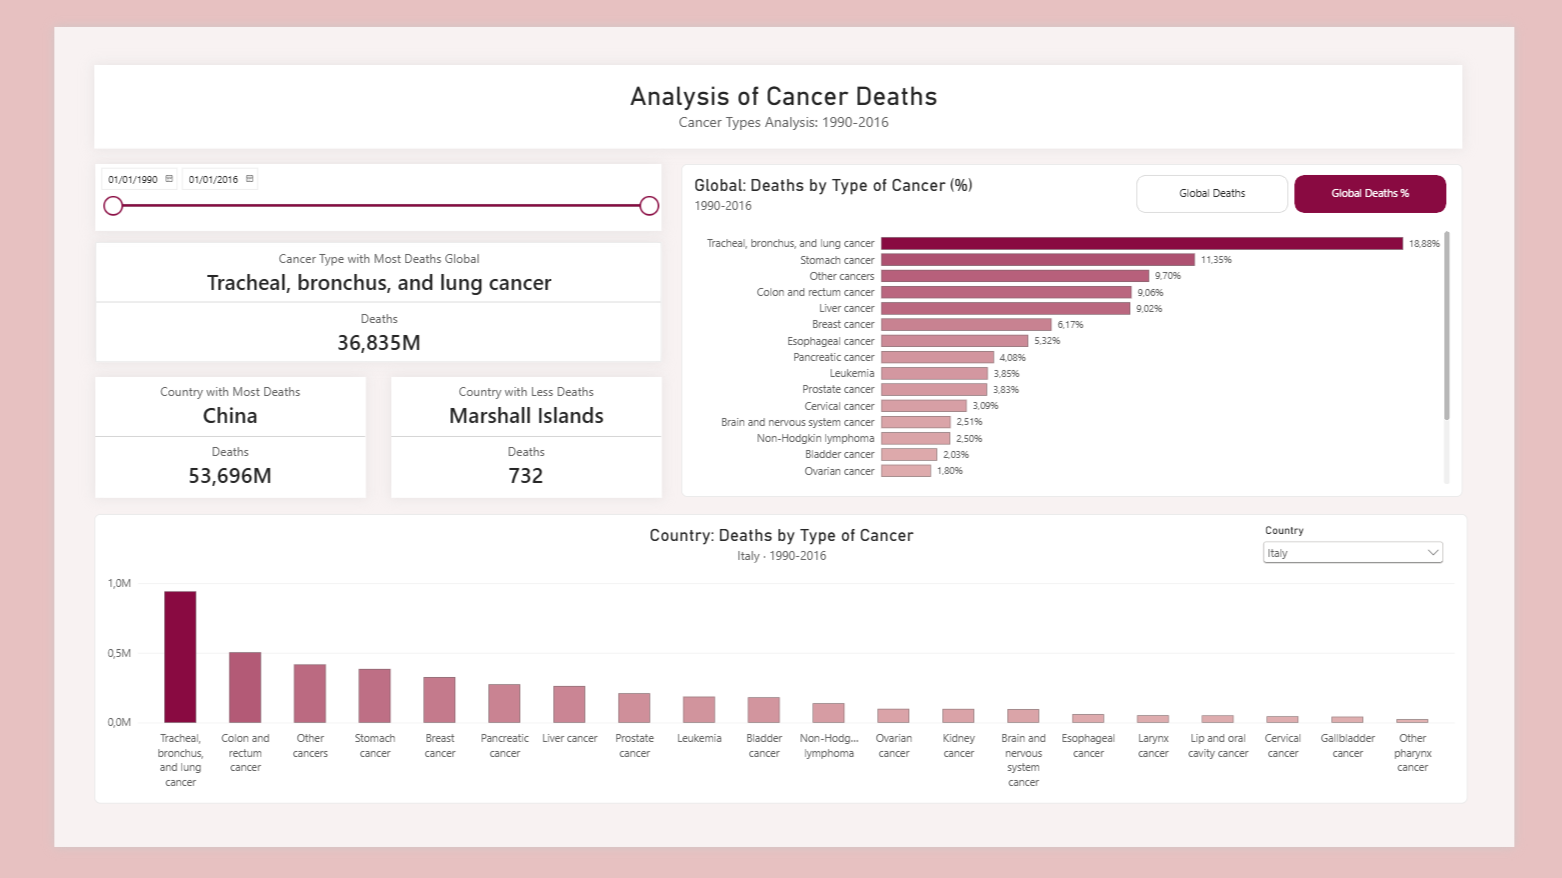

The dashboard page shown, as its layout file describes it:
{"tool":"powerbi","page":{"name":"Cancer Type Analysis","canvas":[1920,1080],"ordinal":1},"visuals":[{"type":"textbox","title":"back","box":[52.9,50,1800,110],"z":0},{"type":"textbox","title":"Analysis of Cancer Deaths","box":[733.3,71.7,453.8,68.8],"z":1000},{"type":"barChart","title":"Global: Deaths by Type of Cancer  (%)","fields":{"Category":["World_cancer_deaths.Type_cancer"],"Y":["Sum(World_cancer_deaths.Total)"]},"box":[825,180,1028.3,438.3],"z":2000},{"type":"columnChart","title":"Country: Deaths by Type of Cancer","fields":{"Category":["Countries_cancer_deaths.Type_cancer"],"Y":["Sum(Countries_cancer_deaths.Total)"]},"box":[52.9,641.4,1807.1,381.4],"z":4000},{"type":"slicer","fields":{"Values":["Countries_ID.Country"]},"box":[1585,653.3,246.7,68.3],"z":5000},{"type":"cardVisual","fields":{"Data":["00_Measures_Table.Cancer Type with Most Deaths","00_Measures_Table.Deaths - Leading Cancer Type"]},"box":[53.3,283.3,745,158.3],"z":6000},{"type":"slicer","fields":{"Values":["Years_ID.Year"]},"box":[53.3,180,745,88.3],"z":8000},{"type":"cardVisual","fields":{"Data":["00_Measures_Table.Country with Less Deaths","00_Measures_Table.Less deaths in country"]},"box":[443.3,460,355.7,158.6],"z":9000},{"type":"cardVisual","fields":{"Data":["00_Measures_Table.Country with Most Deaths","00_Measures_Table.Most deaths in country"]},"box":[53.3,460,355.7,158.6],"z":10000},{"type":"bookmarkNavigator","box":[1423.3,195,408.3,50],"z":11000}]}

Visuals, with their boxes in screenshot pixels (x1, y1, x2, y2), scaled from the page's 1920x1080 canvas onto the 1562x878 screenshot:
"back" textbox: 43, 41, 1507, 130
"Analysis of Cancer Deaths" textbox: 597, 58, 966, 114
"Global: Deaths by Type of Cancer  (%)" barChart: 671, 146, 1508, 503
"Country: Deaths by Type of Cancer" columnChart: 43, 521, 1513, 831
slicer - Countries_ID.Country: 1289, 531, 1490, 587
cardVisual - 00_Measures_Table.Cancer Type with Most Deaths x 00_Measures_Table.Deaths - Leading Cancer Type: 43, 230, 649, 359
slicer - Years_ID.Year: 43, 146, 649, 218
cardVisual - 00_Measures_Table.Country with Less Deaths x 00_Measures_Table.Less deaths in country: 361, 374, 650, 503
cardVisual - 00_Measures_Table.Country with Most Deaths x 00_Measures_Table.Most deaths in country: 43, 374, 333, 503
bookmarkNavigator: 1158, 159, 1490, 199
